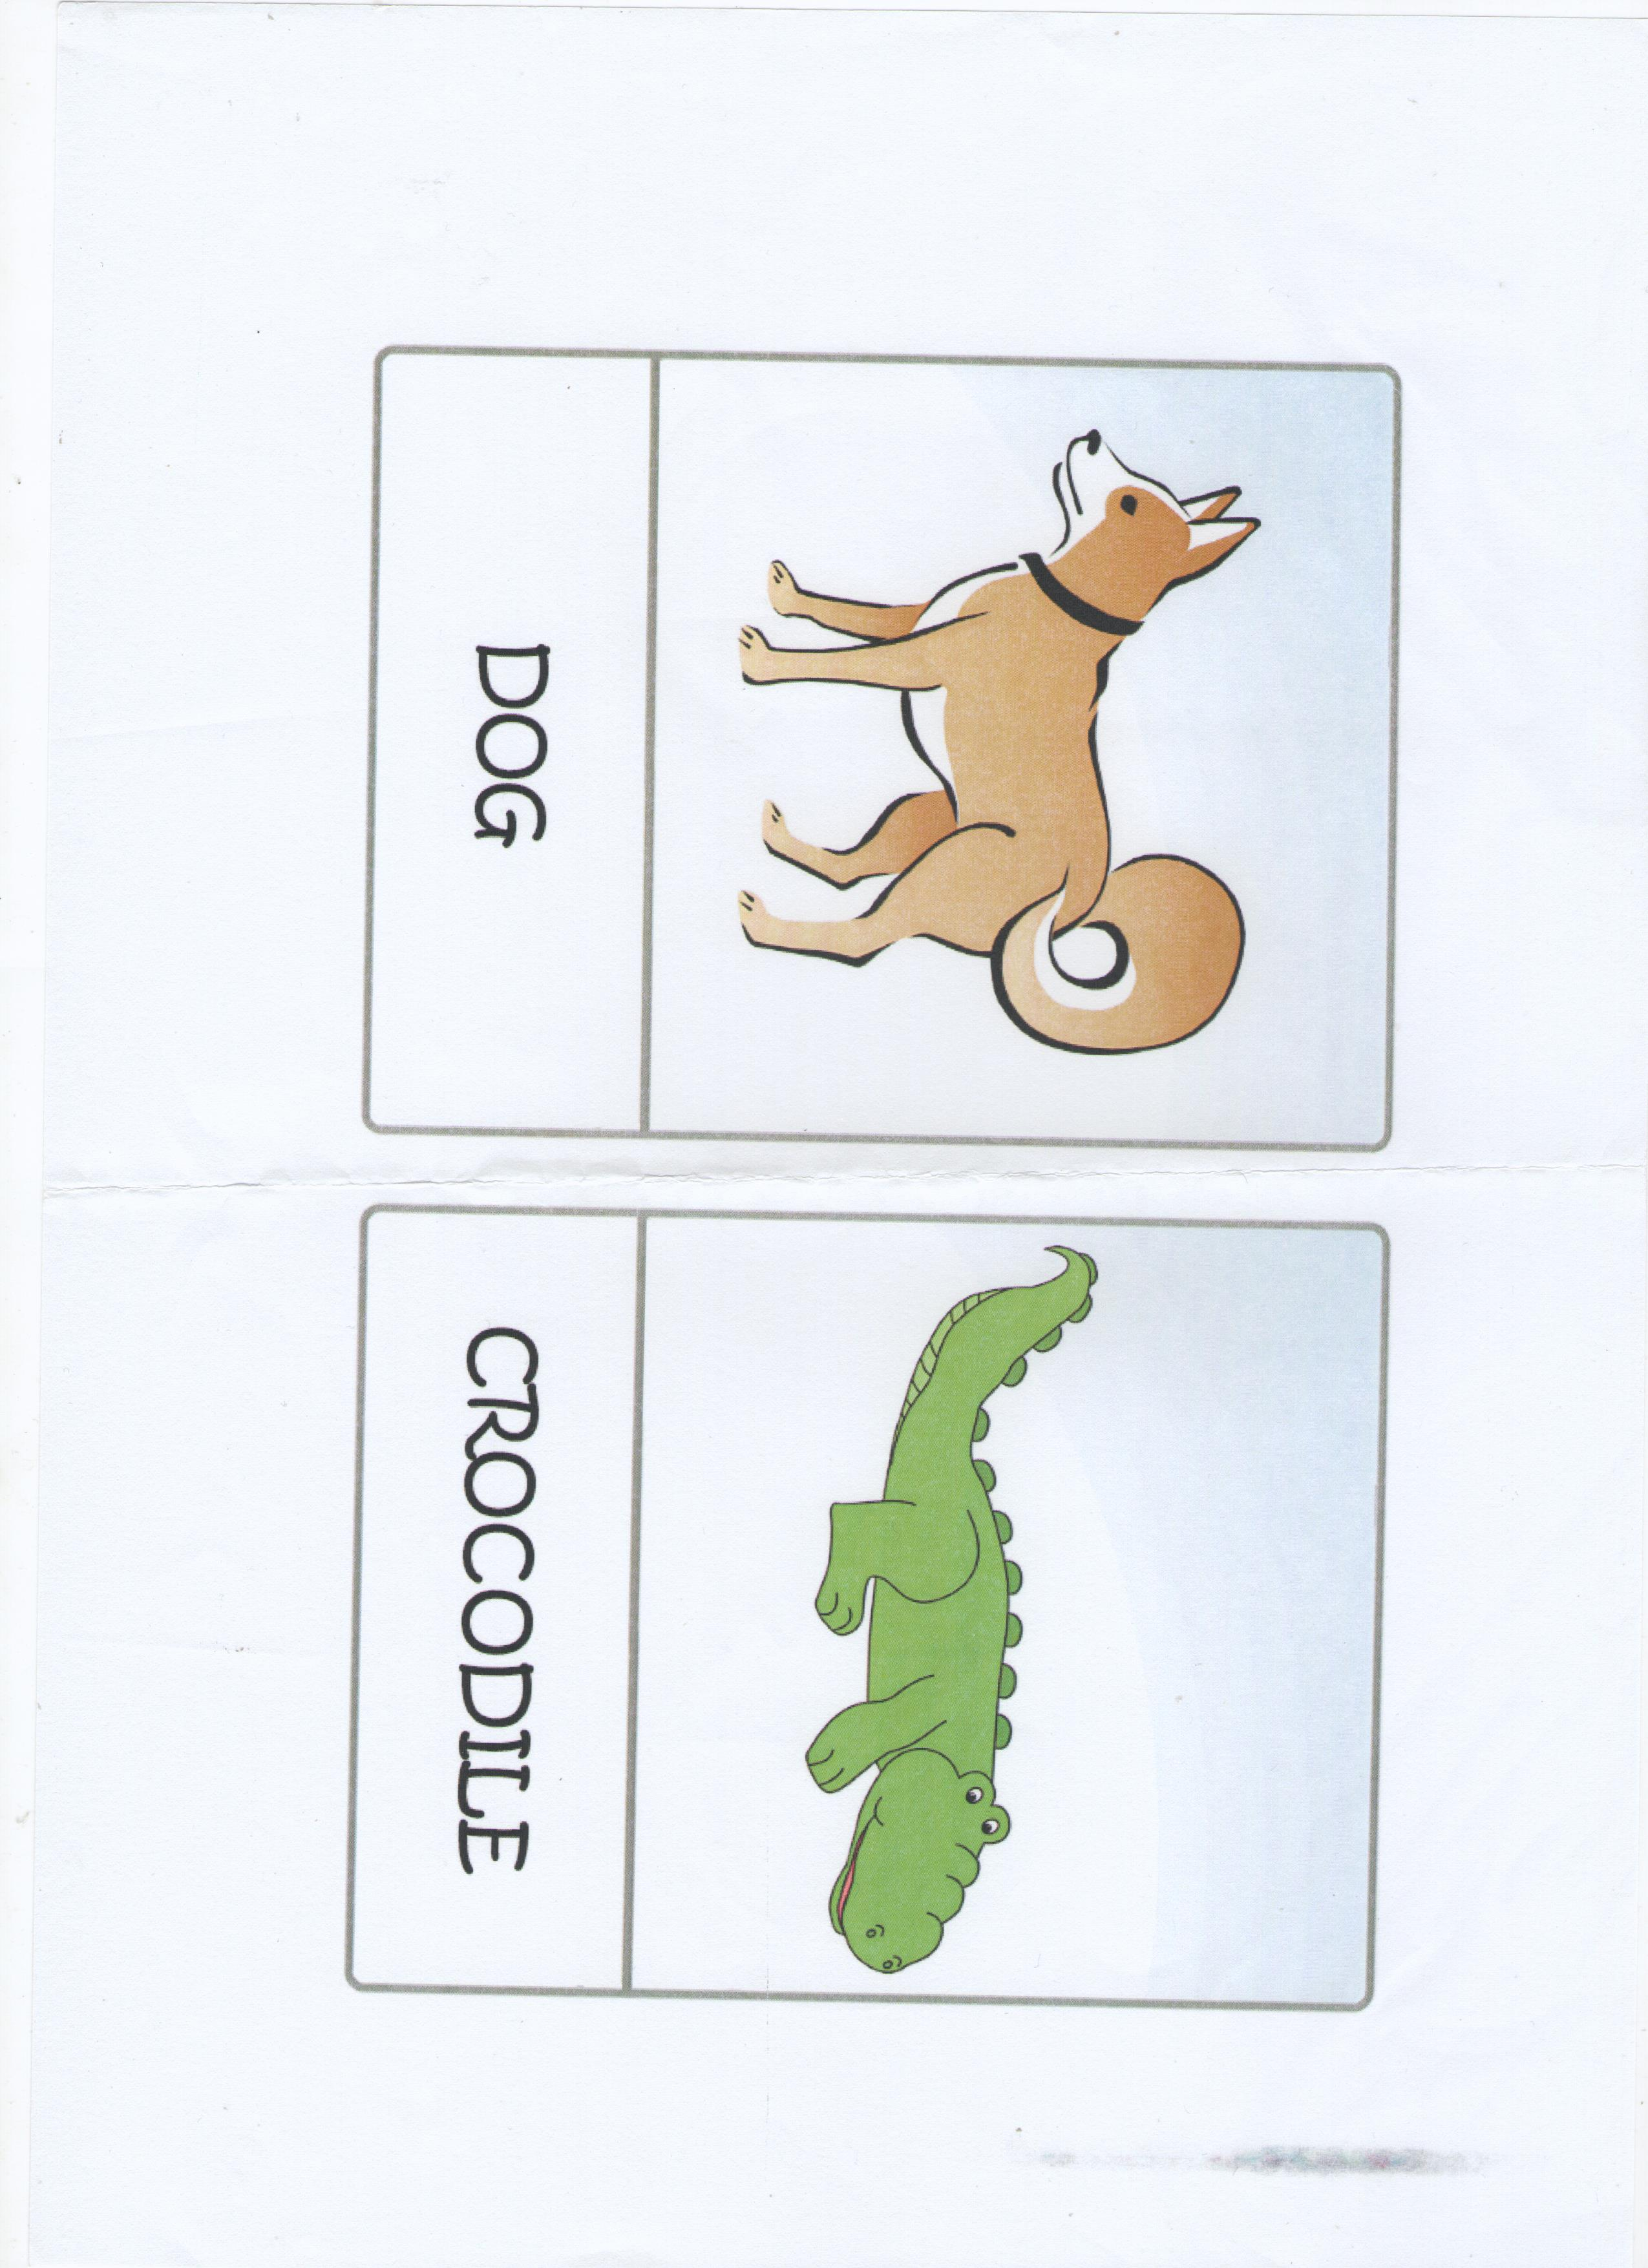cane: (390, 361, 1336, 1100)
coccodrillo: (381, 1218, 1284, 1986)
